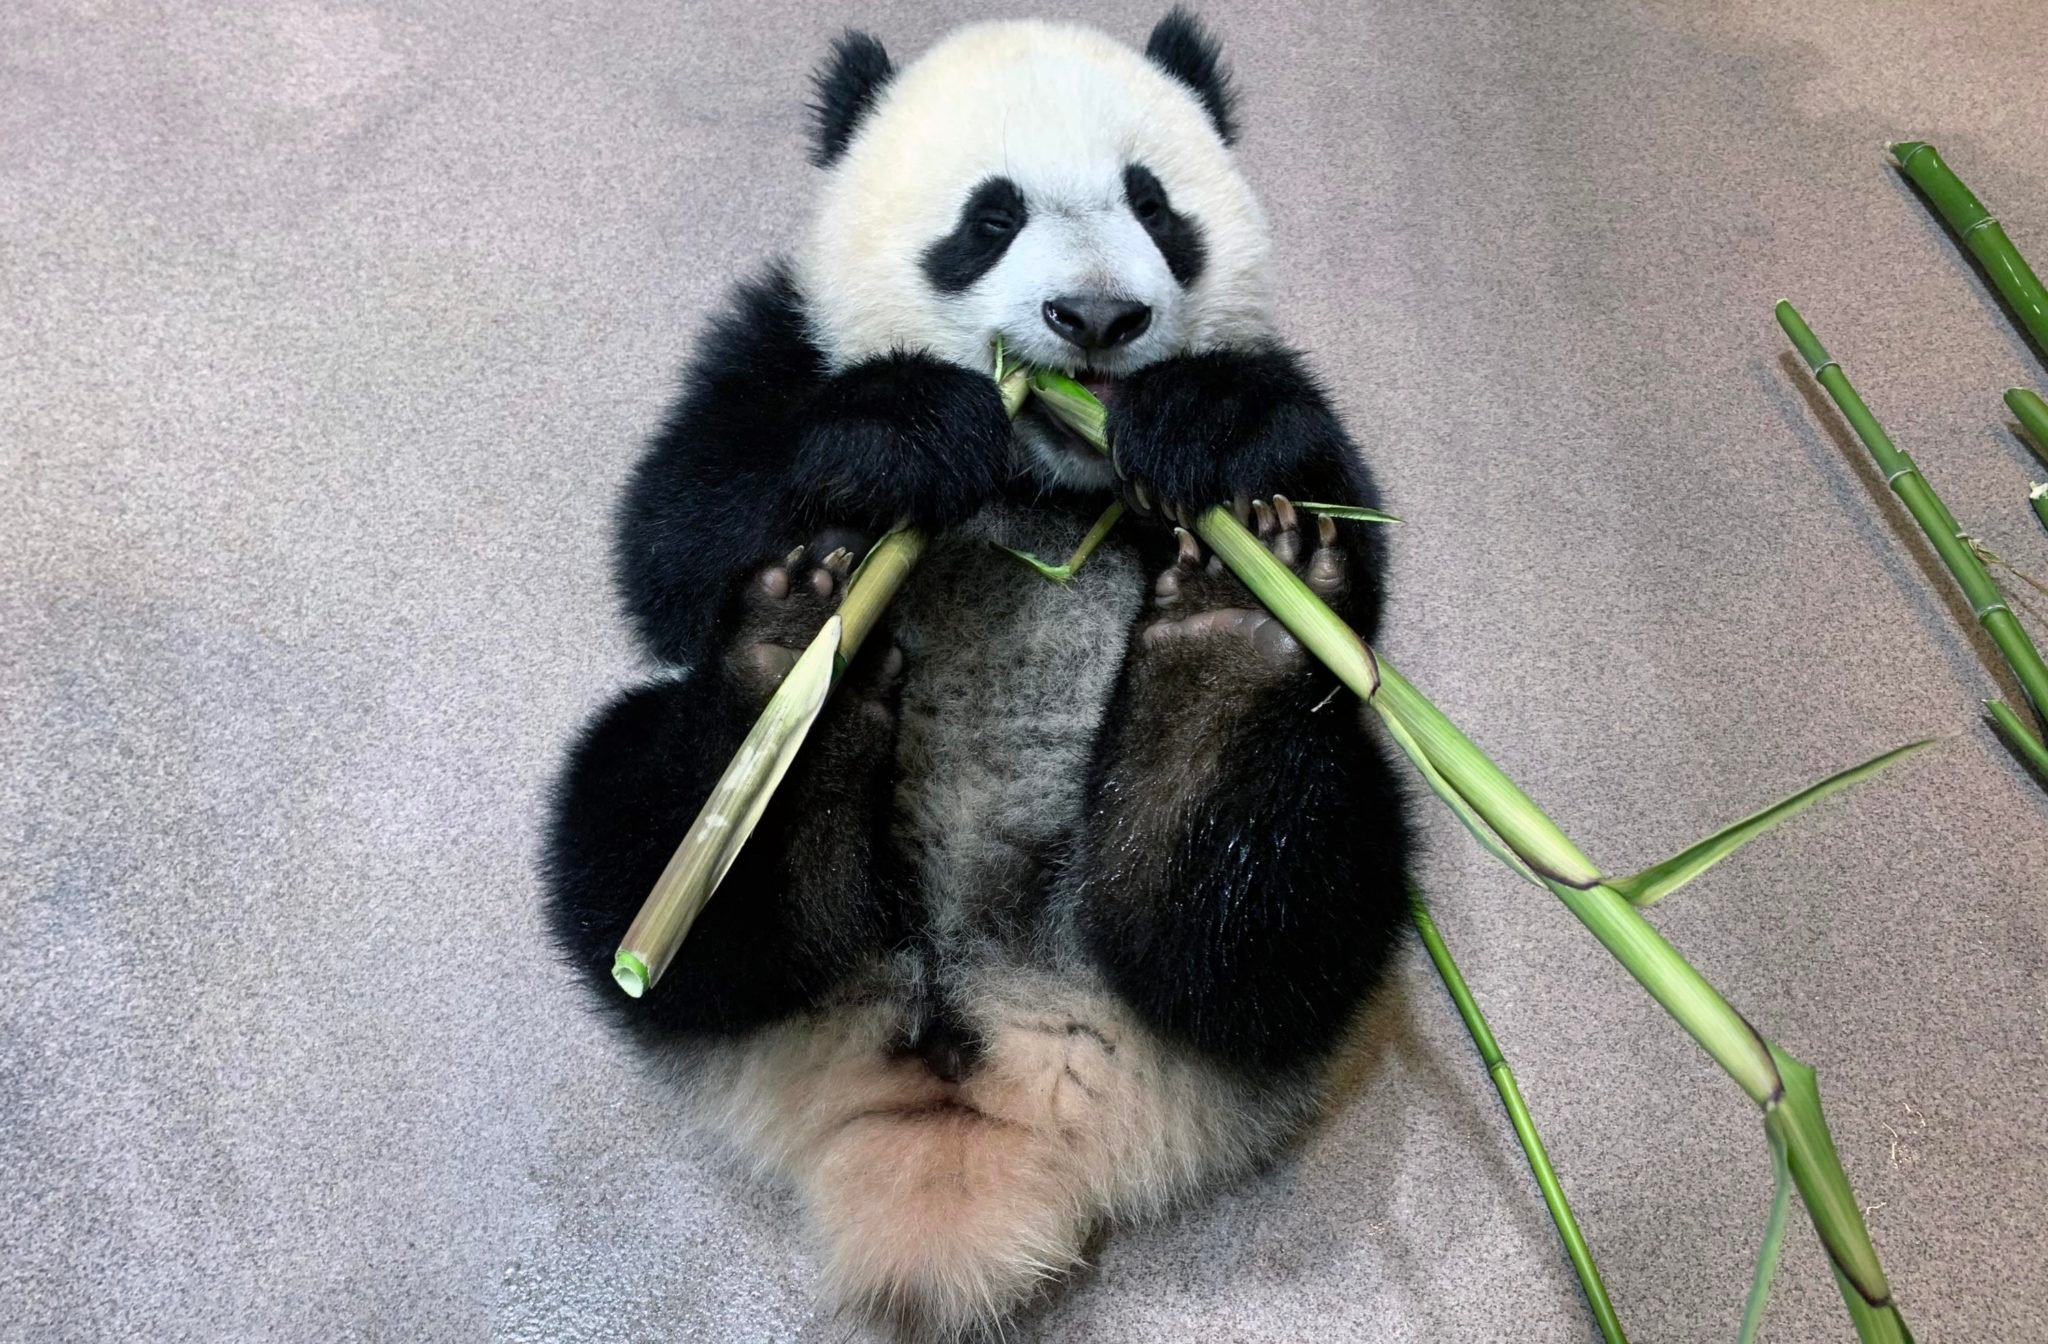panda: (537, 10, 1405, 1300)
